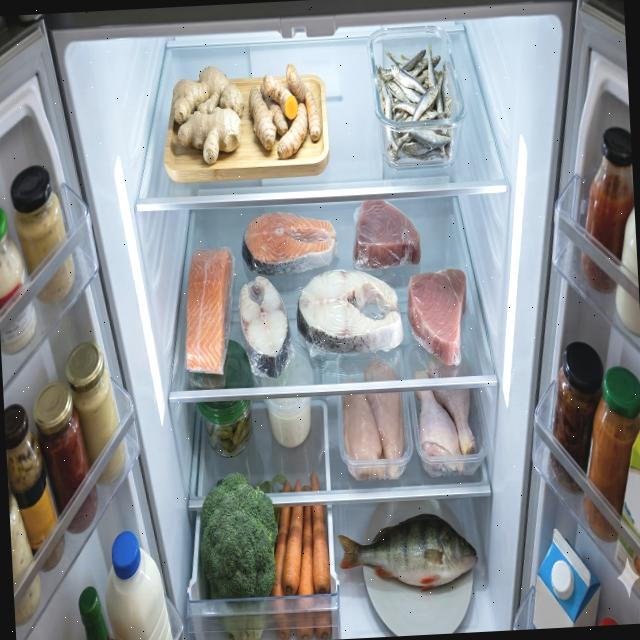anchovies: (374, 40, 456, 164)
brocolli: (197, 470, 284, 640)
carrot: (265, 471, 333, 640)
chicken: (340, 358, 407, 484), (412, 359, 478, 478)
fish: (337, 510, 480, 595), (294, 266, 406, 357), (180, 246, 238, 376), (240, 208, 339, 278), (238, 274, 294, 381)
ginger: (171, 64, 247, 166)
turmeric: (246, 62, 324, 160)
